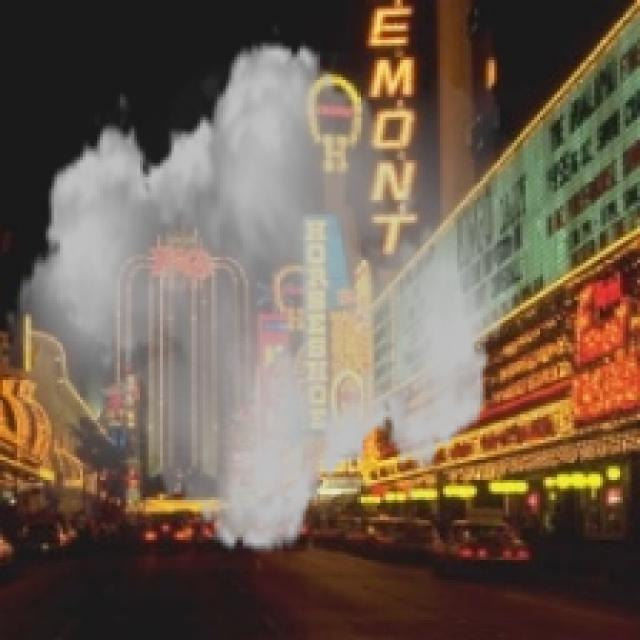Smoke: (6, 19, 528, 574)
